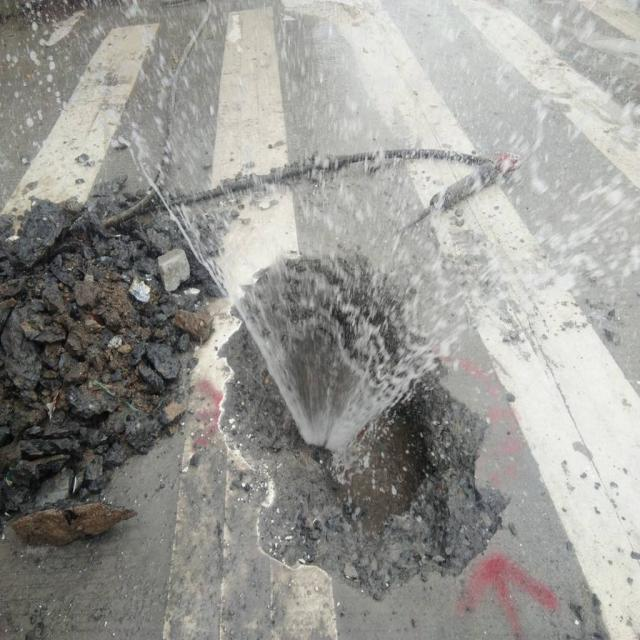leak: (67, 40, 640, 465)
